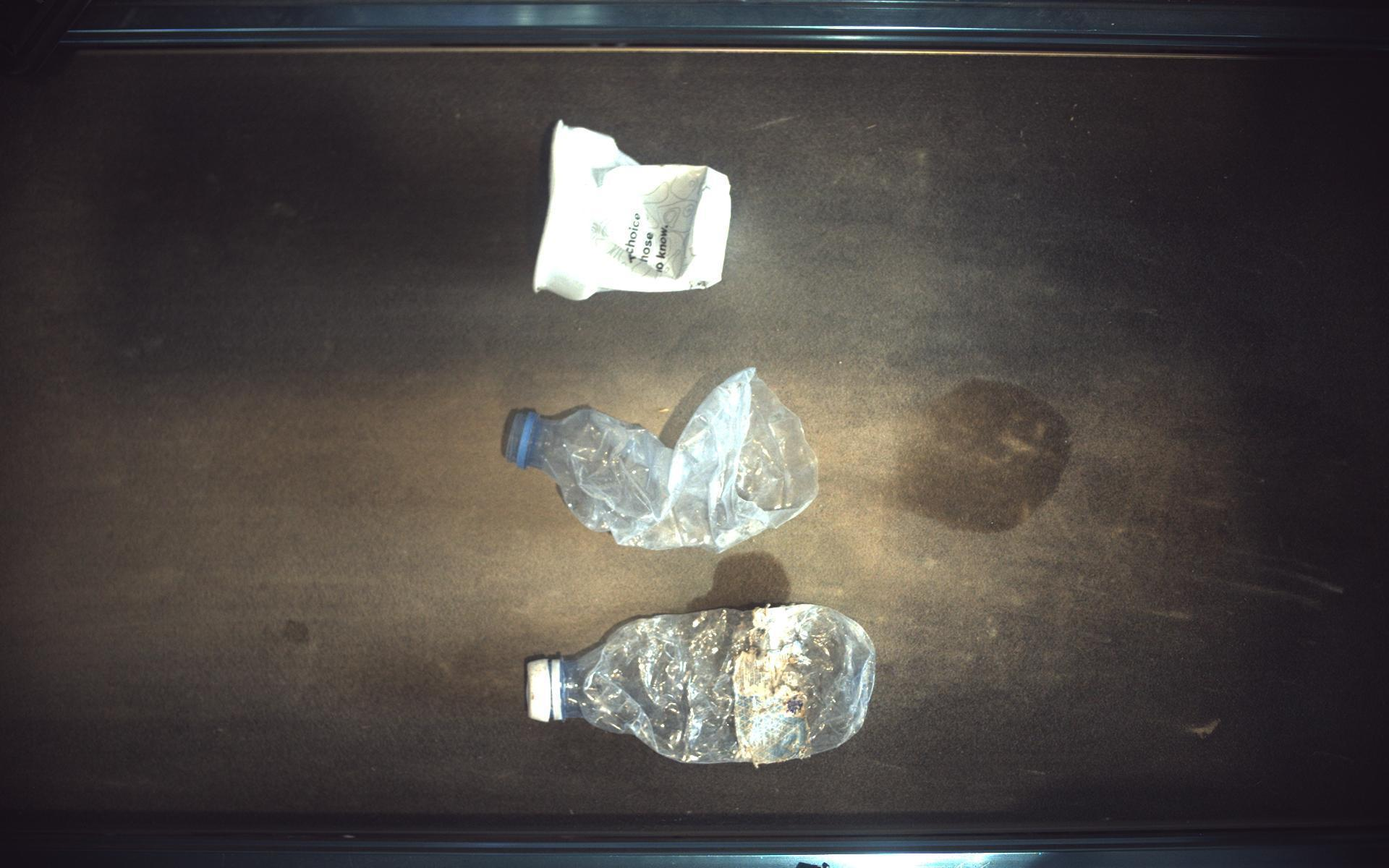general_w: (504, 367, 819, 553), (527, 605, 878, 767), (534, 119, 732, 299)
